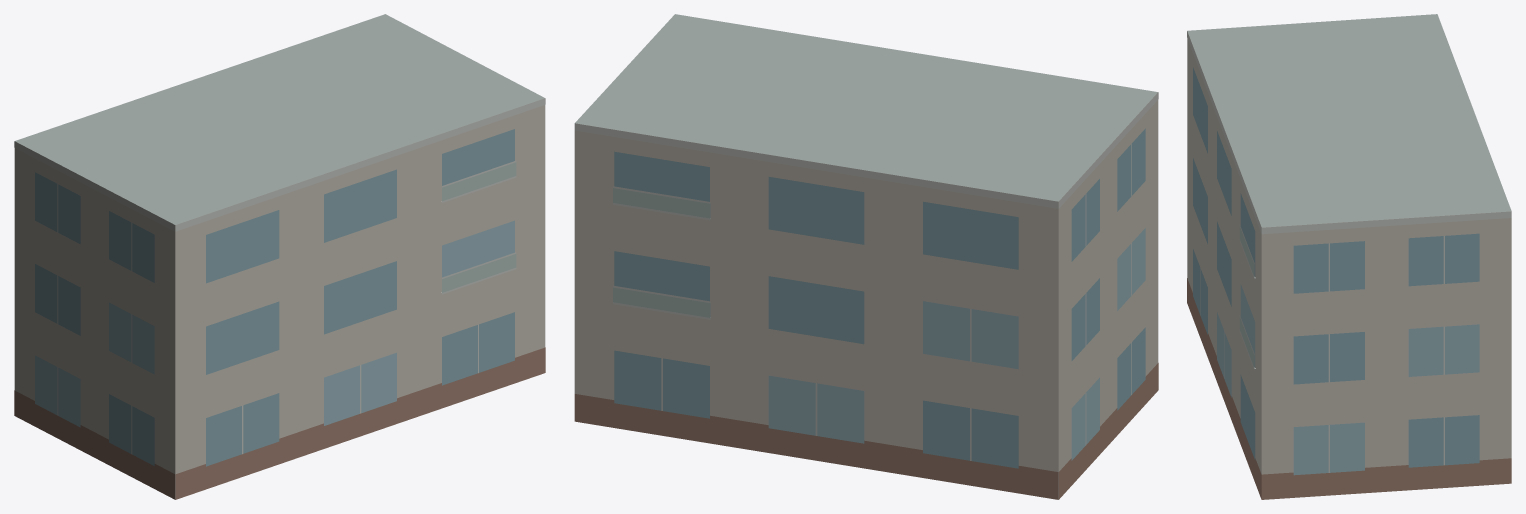
File: survey-upis-32700967.glb
3 views of the same model, side by side, from view 1: azimuth 30°, elevation 25°; view 2: azimuth 150°, elevation 25°; view 3: azimuth 270°, elevation 25° (orthographic). The views are drawn at different scales.
Visible parts, largest first — view 1: survey-upis-32700967.tmp; view 2: survey-upis-32700967.tmp; view 3: survey-upis-32700967.tmp.
Boxes of the visible parts, x1,y1,x2,y2 form: survey-upis-32700967.tmp: [14, 14, 545, 499]; survey-upis-32700967.tmp: [574, 14, 1158, 499]; survey-upis-32700967.tmp: [1187, 14, 1511, 499].
Bounding box in the file's own units: 17.19 × 10.2 × 11.04.
